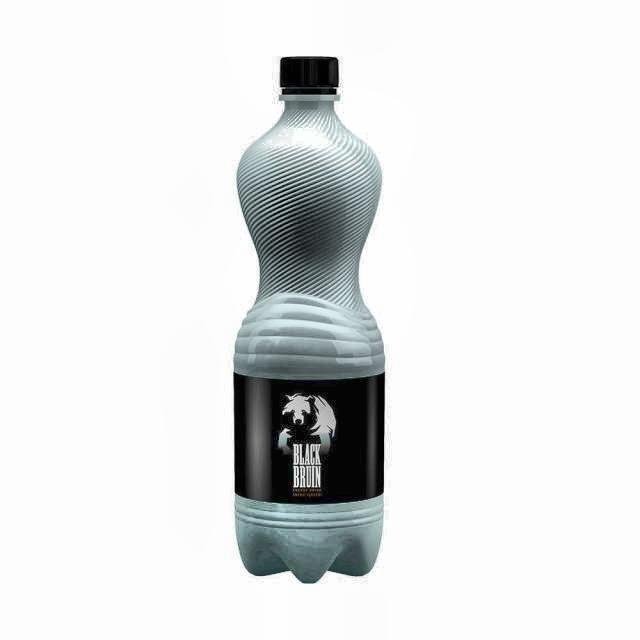plastic: (234, 56, 386, 587)
